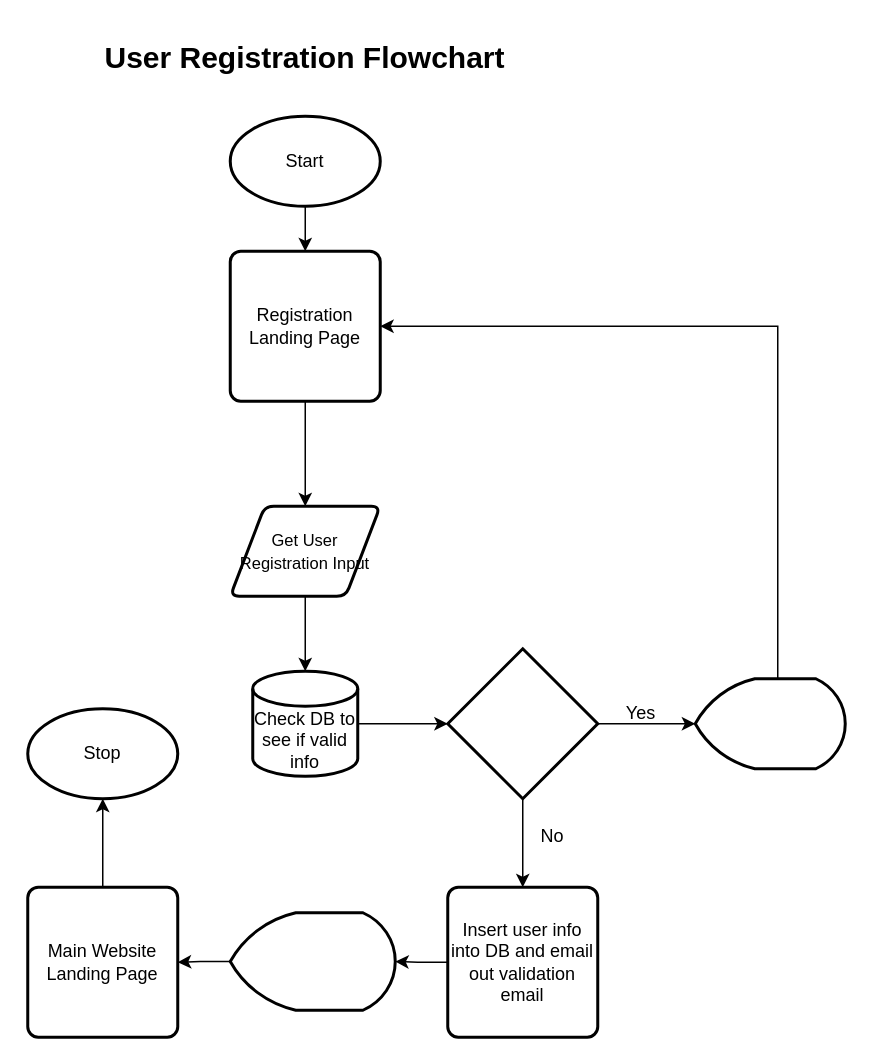
The diagram is 872 pixels wide and 1064 high, and some of its shapes have lost their labels. The shapes that lost their labels are listed below. From the top down, each one's centre as x and y in pixels, then its label:
At pixel 522 723: "Username/Email Already Taken?".
At pixel 769 723: "Tell User that Username/Email Taken".
At pixel 312 960: "Tell user to check email for validation email".
